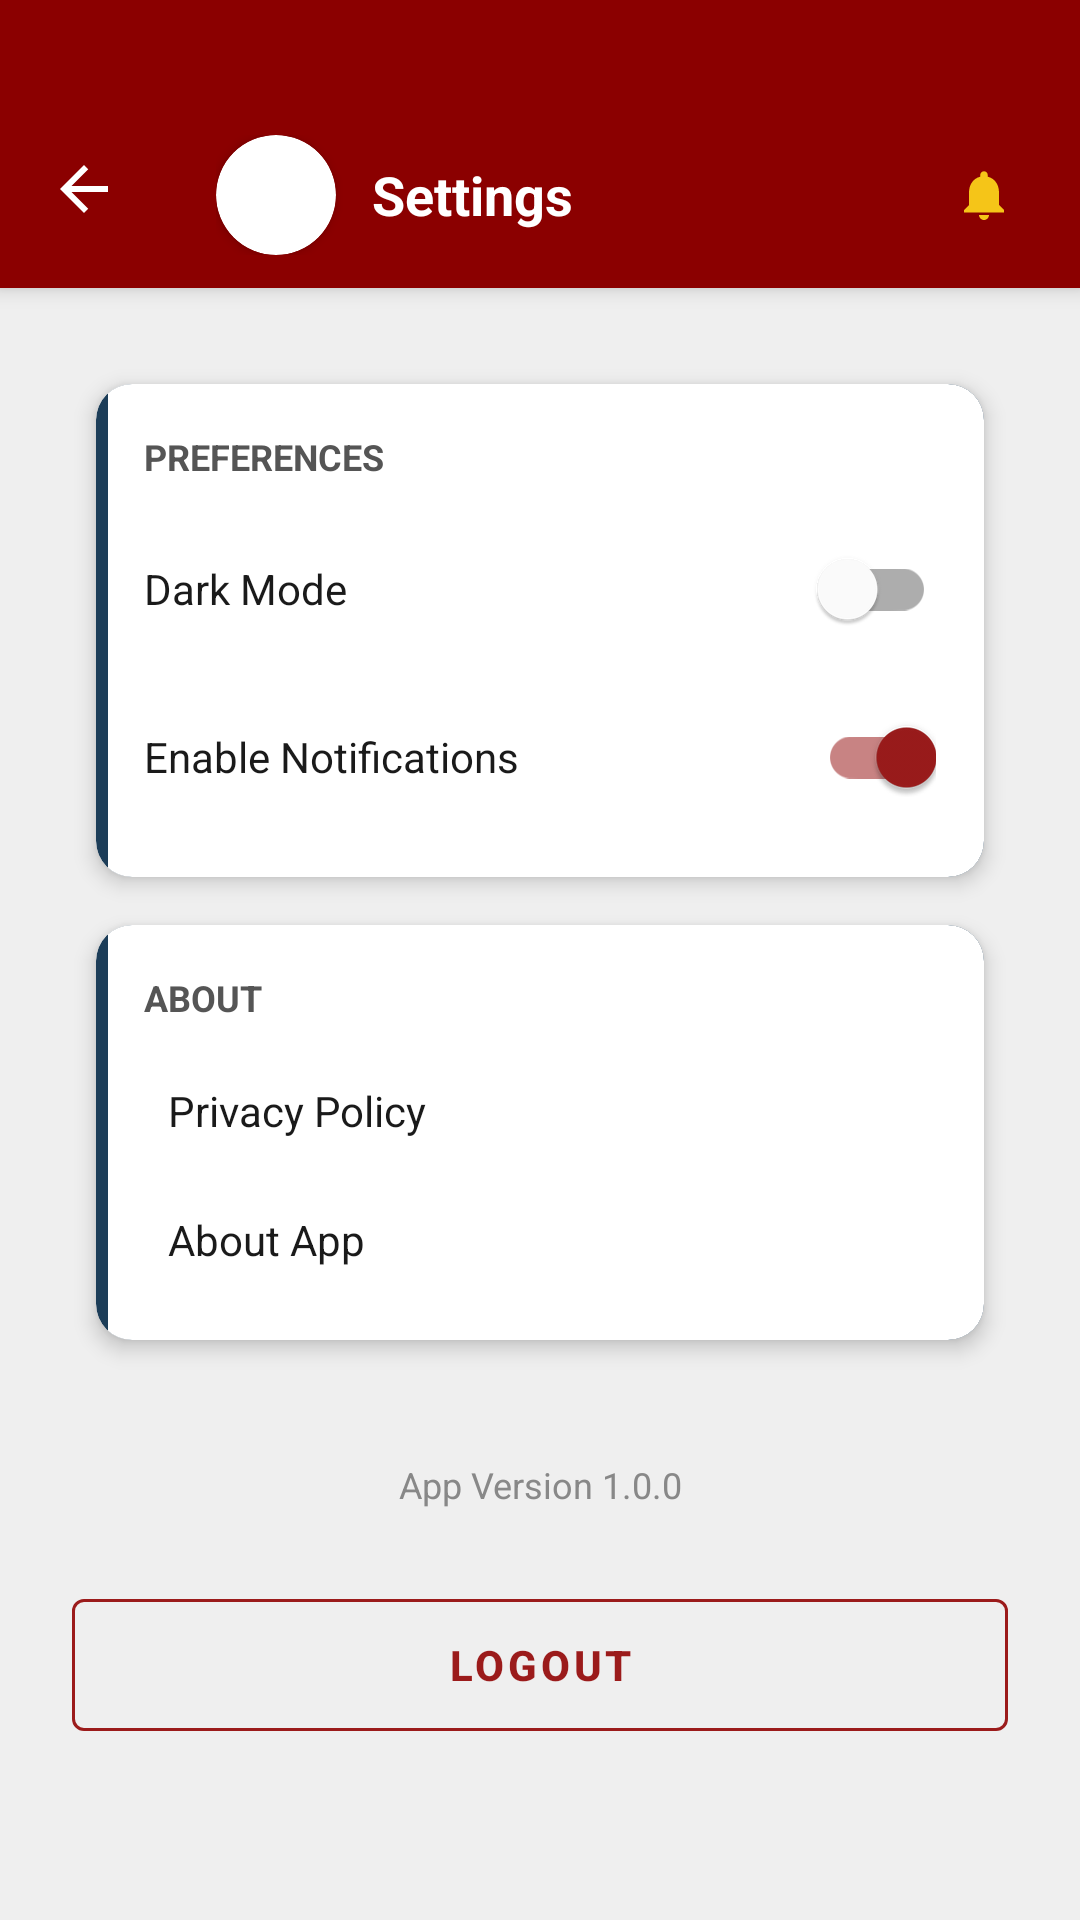

Named icons in this screenshot (1080x1920) and their centers, point (x, y):
bell: point (984, 195)
